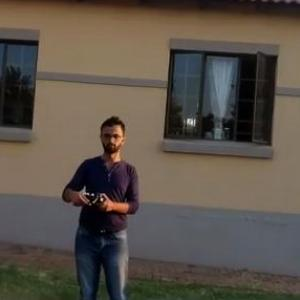follow: (53, 110, 145, 299)
